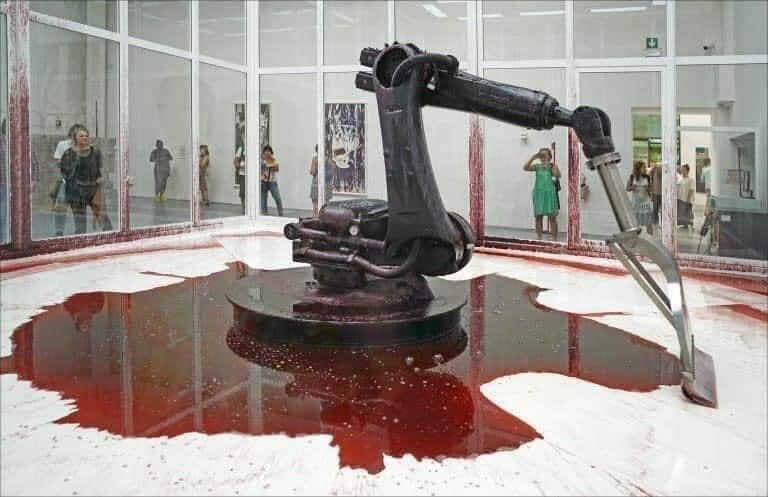water accumulation: (0, 256, 684, 478)
